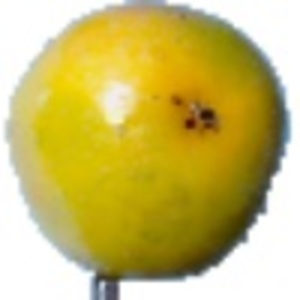maracujá: (7, 1, 300, 300)
